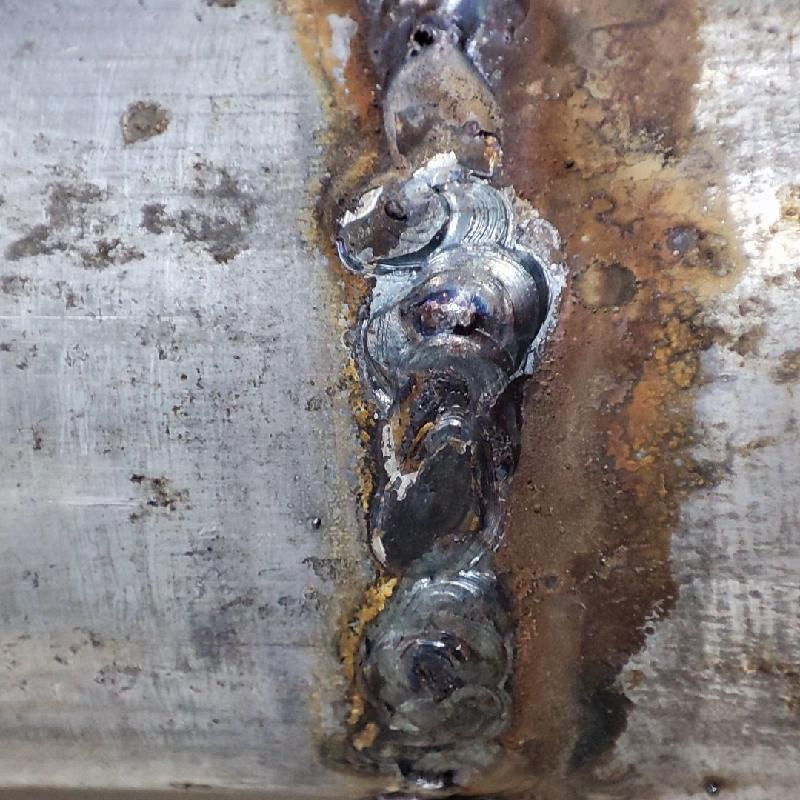Not_fully_soldered: (361, 17, 550, 242)
wrong_size: (335, 246, 549, 754)
